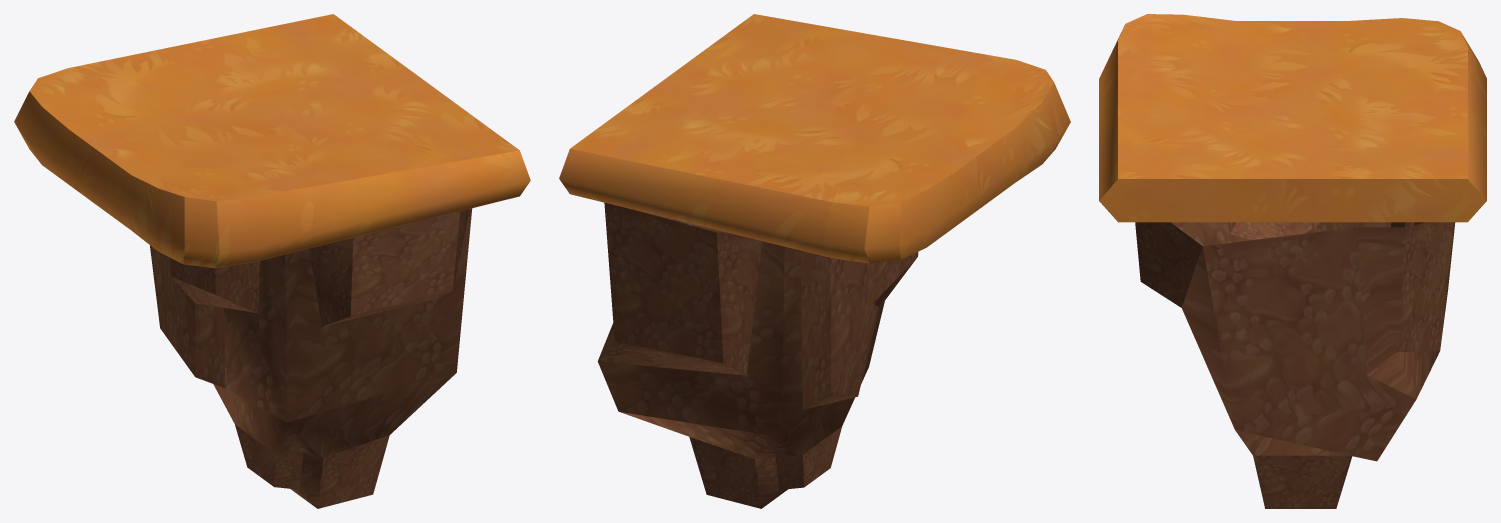
Rendered from Ground Corner 3 Sides.FBX.
3 renders of one model, left to right at view 1: azimuth 30°, elevation 25°; view 2: azimuth 150°, elevation 25°; view 3: azimuth 270°, elevation 25°, orthographic. The views are drawn at different scales.
Parts seen in each view (by area): view 1: Object005; view 2: Object005; view 3: Object005.
Part boxes in pixels (bbox=[...]): Object005: bbox=[14, 14, 530, 508]; Object005: bbox=[559, 14, 1070, 508]; Object005: bbox=[1099, 14, 1486, 508].
Size of the model in its own units: 40.43 by 46.59 by 43.12.
